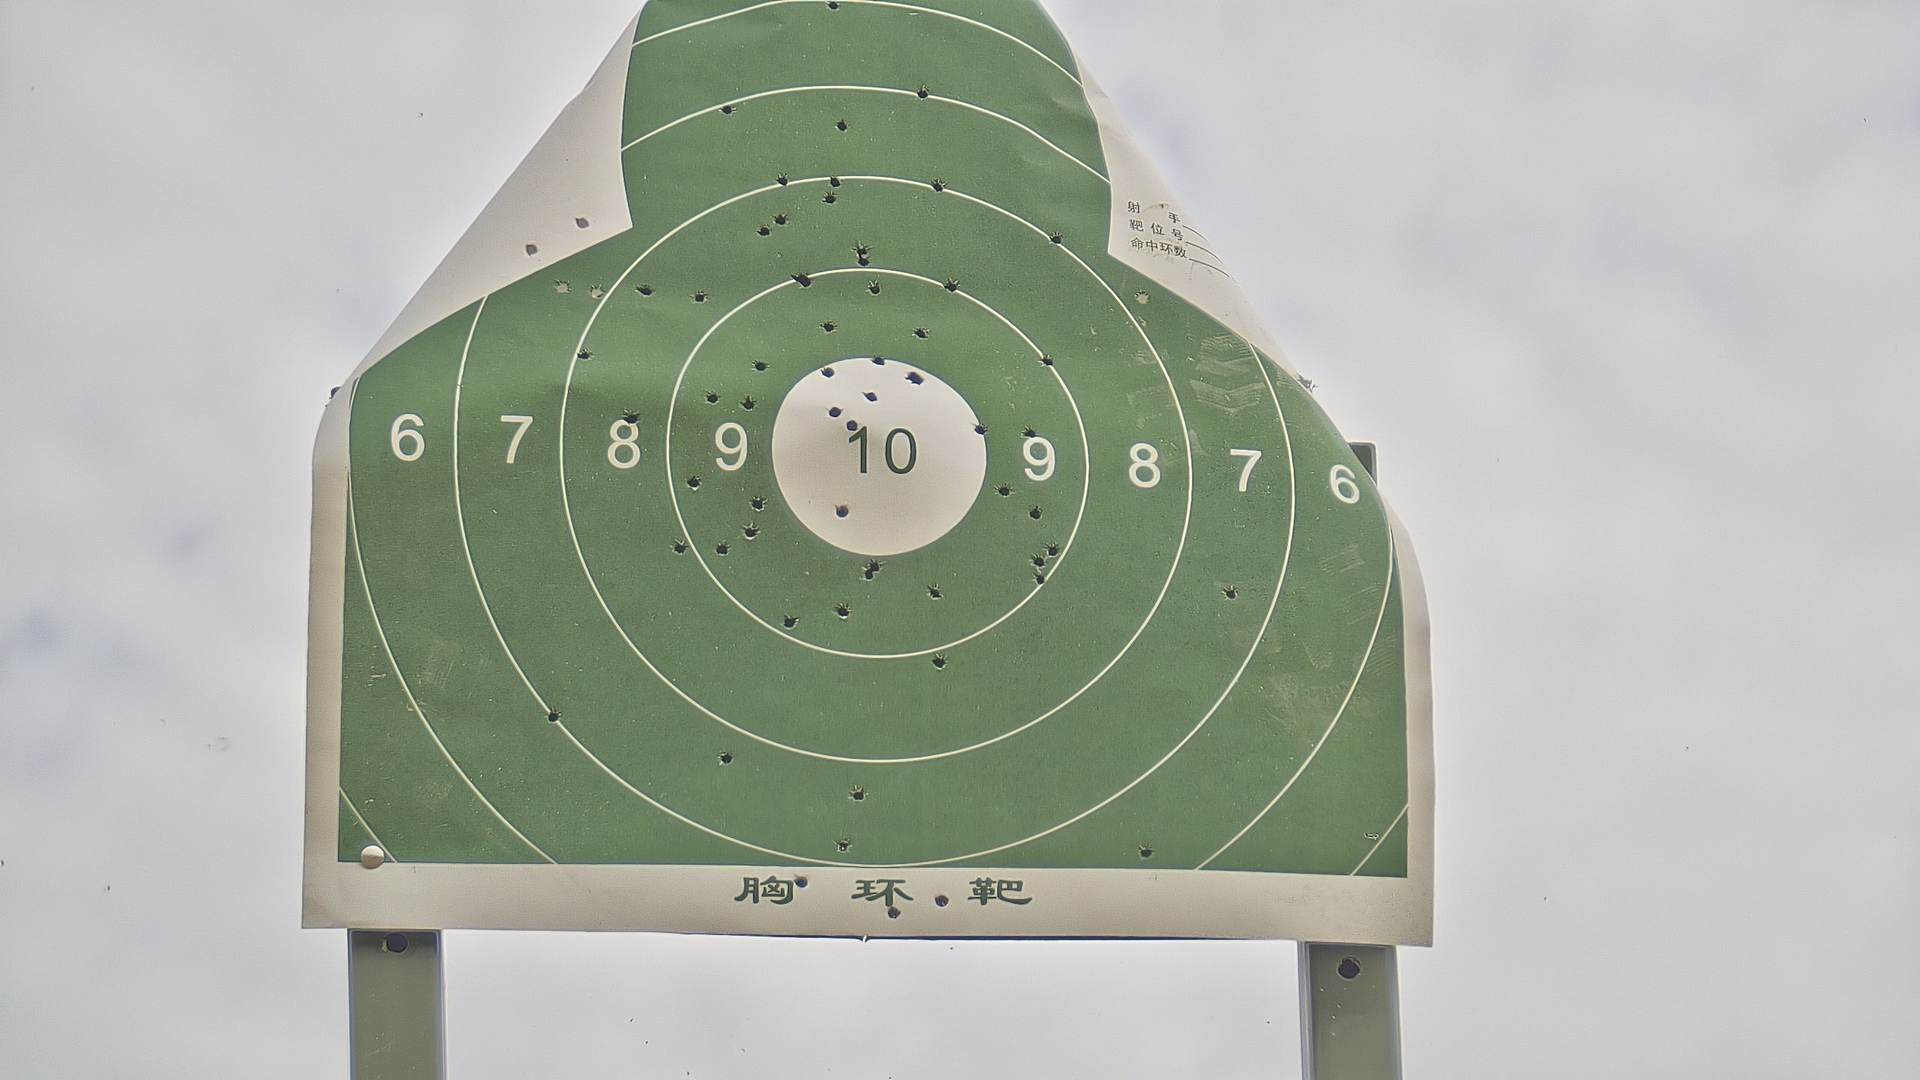hole: (1218, 587, 1244, 608), (740, 521, 762, 543), (1133, 843, 1158, 862), (684, 471, 705, 493), (831, 836, 855, 856), (924, 582, 945, 603), (910, 326, 934, 344), (822, 404, 847, 421), (588, 284, 609, 303), (622, 406, 644, 426), (1029, 553, 1048, 574), (833, 603, 855, 622), (781, 613, 802, 633), (931, 651, 951, 673), (835, 501, 853, 524), (667, 539, 691, 556), (749, 493, 769, 513), (1131, 291, 1153, 310), (770, 212, 793, 229), (851, 243, 874, 258), (1044, 543, 1063, 563), (858, 564, 878, 583), (554, 277, 571, 298), (711, 541, 733, 556), (832, 119, 851, 137), (738, 394, 757, 413), (914, 84, 931, 104), (818, 320, 837, 338), (750, 357, 770, 375), (545, 709, 564, 727), (851, 785, 870, 802), (819, 193, 837, 210), (943, 280, 961, 297), (885, 903, 903, 920), (703, 392, 723, 407), (905, 373, 924, 389), (521, 243, 541, 258), (717, 103, 738, 117), (790, 874, 811, 889), (930, 179, 947, 196), (855, 255, 872, 272), (717, 750, 735, 767), (1047, 233, 1065, 249), (636, 284, 654, 299), (1026, 506, 1044, 522), (1038, 357, 1058, 372), (997, 483, 1011, 502), (827, 175, 844, 191), (866, 282, 885, 297), (576, 348, 595, 363), (690, 291, 709, 305), (868, 356, 887, 369), (798, 276, 815, 290), (935, 891, 949, 909), (823, 1, 843, 13), (774, 175, 791, 189), (1019, 430, 1036, 443), (757, 225, 773, 239), (574, 218, 591, 229), (845, 419, 860, 433), (973, 425, 989, 436), (820, 368, 836, 378), (865, 392, 878, 404)
kernel: (872, 450, 877, 452)
target: (338, 5, 1414, 885)
ten: (770, 351, 993, 553)
